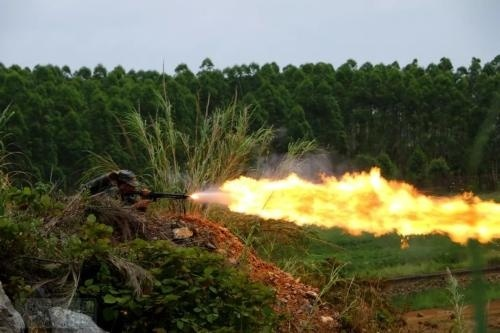fire: (220, 161, 500, 247)
